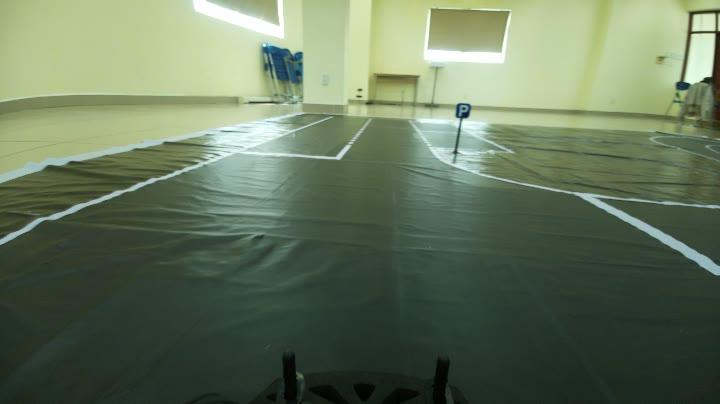parking: (449, 94, 473, 120)
